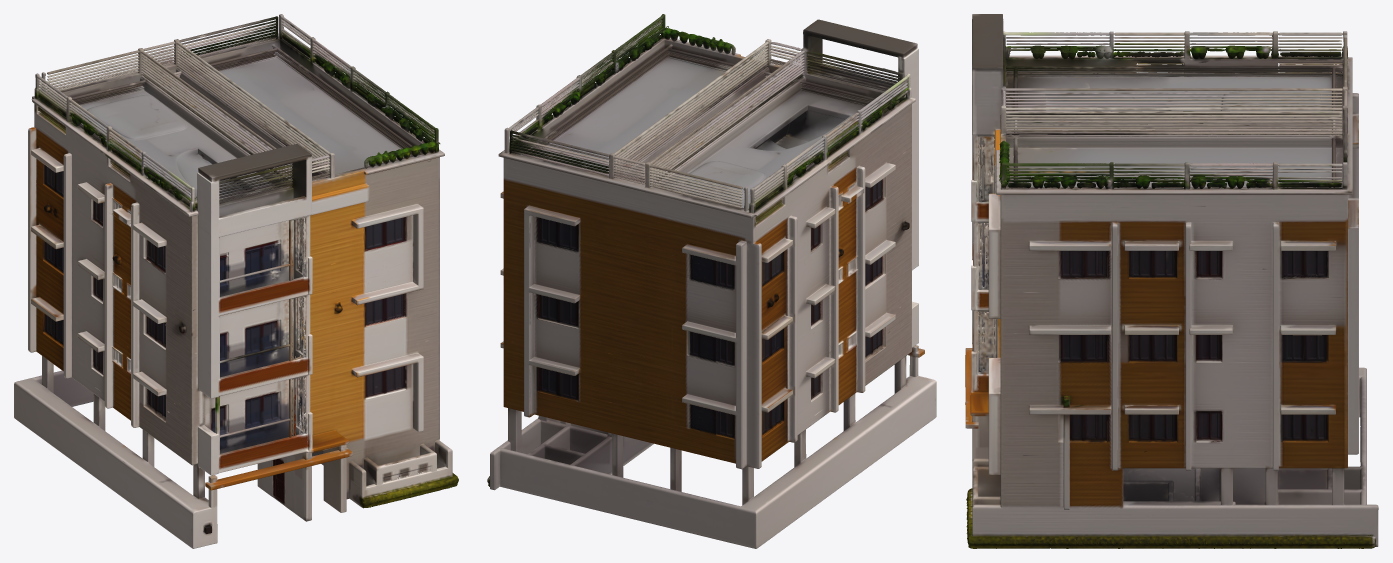
File: apartment-building.glb
The picture shows the model from 3 angles, left to right: view 1: azimuth 30°, elevation 25°; view 2: azimuth 150°, elevation 25°; view 3: azimuth 270°, elevation 25°; orthographic projection. The views are drawn at different scales.
Visible parts, largest first — view 1: node_0; view 2: node_0; view 3: node_0.
Boxes of the visible parts, x1,y1,x2,y2 form: node_0: (14, 14, 458, 548); node_0: (487, 14, 936, 548); node_0: (965, 14, 1378, 548).
Bounding box in the file's own units: 0.5959 × 0.7779 × 0.7204.
Materials: 1 (1 with a texture image).
